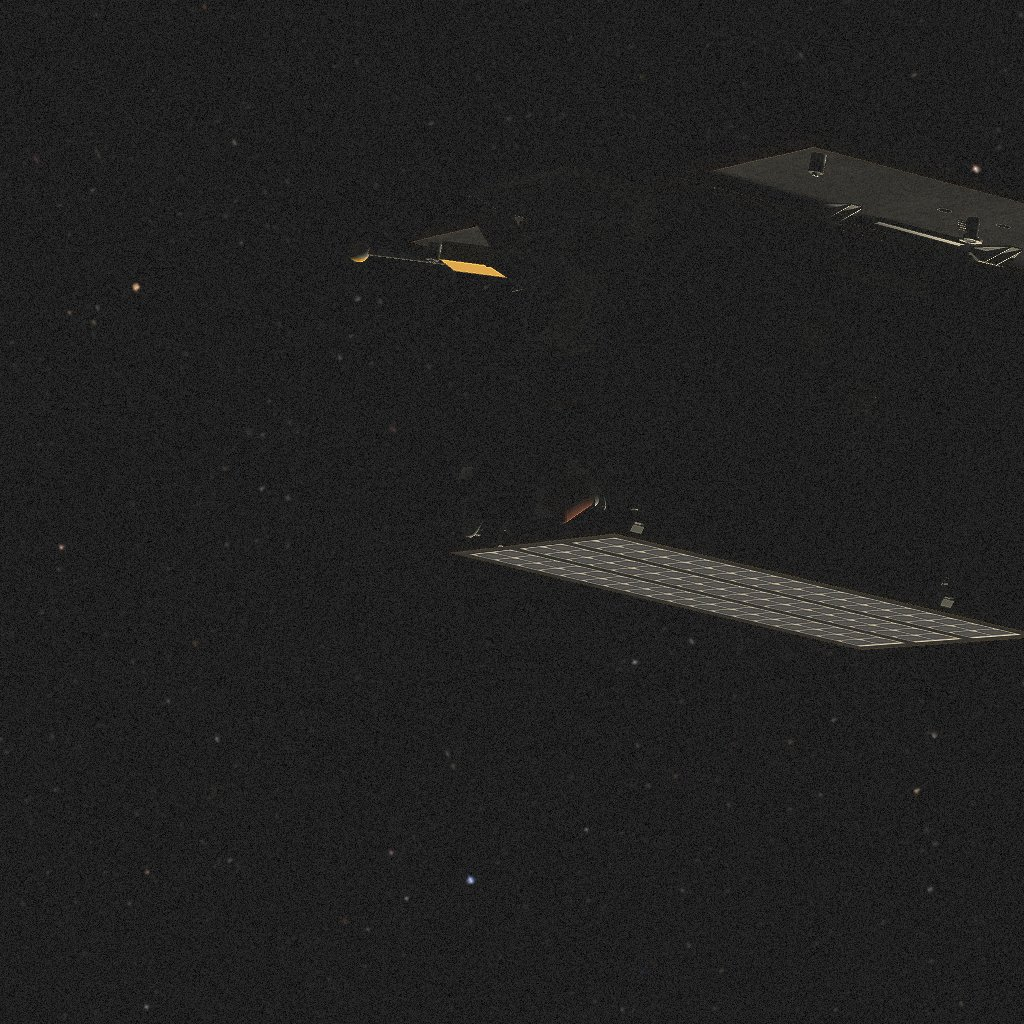proba_2: (348, 135, 1024, 650)
